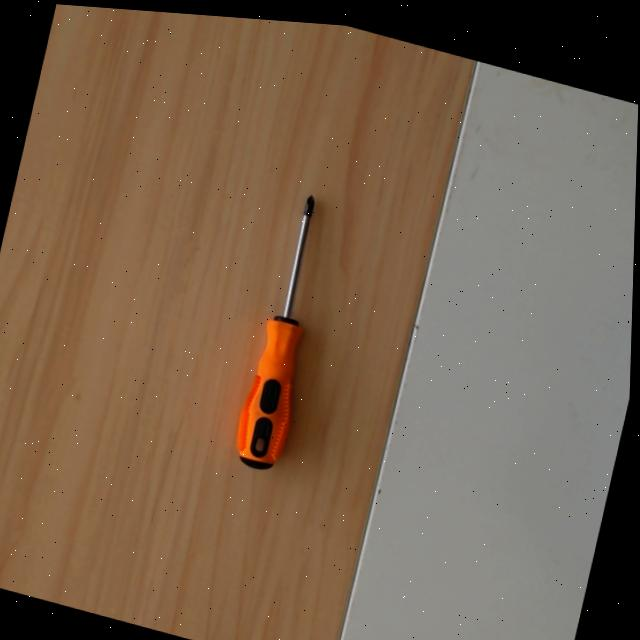Obeng-Besar: (232, 190, 333, 472)
